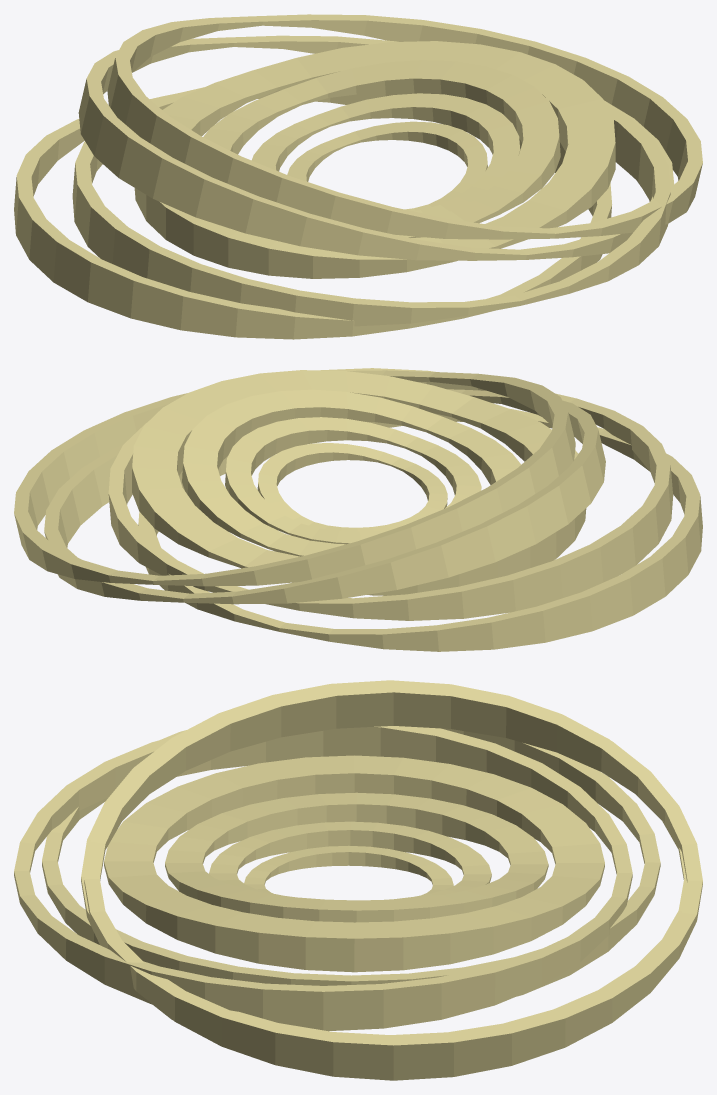
File: choppedOnion.fbx
The picture shows the model from 3 angles, top to bottom: view 1: azimuth 30°, elevation 25°; view 2: azimuth 150°, elevation 25°; view 3: azimuth 270°, elevation 25°; orthographic projection. The views are drawn at different scales.
Parts seen in each view (by area): view 1: Sphere.003, Sphere.002, Sphere.004, Sphere.001, Sphere, Sphere.005, Sphere.006, Sphere.007; view 2: Sphere.003, Sphere.002, Sphere.004, Sphere.001, Sphere, Sphere.005, Sphere.006, Sphere.007; view 3: Sphere.003, Sphere.002, Sphere.001, Sphere.005, Sphere, Sphere.006, Sphere.007, Sphere.004.
Boxes of the visible parts, x1=… form: Sphere.003: x1=107, y1=14, x2=702, y2=239; Sphere.002: x1=134, y1=41, x2=615, y2=278; Sphere.004: x1=78, y1=35, x2=674, y2=260; Sphere.001: x1=72, y1=87, x2=670, y2=326; Sphere: x1=14, y1=90, x2=611, y2=339; Sphere.005: x1=203, y1=60, x2=560, y2=237; Sphere.006: x1=251, y1=93, x2=520, y2=215; Sphere.007: x1=287, y1=121, x2=487, y2=210; Sphere.003: x1=14, y1=370, x2=575, y2=586; Sphere.002: x1=132, y1=370, x2=586, y2=595; Sphere.004: x1=44, y1=389, x2=605, y2=604; Sphere.001: x1=108, y1=368, x2=673, y2=620; Sphere: x1=138, y1=409, x2=702, y2=651; Sphere.005: x1=182, y1=389, x2=521, y2=556; Sphere.006: x1=225, y1=417, x2=481, y2=544; Sphere.007: x1=257, y1=443, x2=447, y2=531; Sphere.003: x1=84, y1=682, x2=702, y2=1080; Sphere.002: x1=104, y1=755, x2=604, y2=972; Sphere.001: x1=14, y1=726, x2=632, y2=1031; Sphere.005: x1=165, y1=792, x2=548, y2=922; Sphere: x1=42, y1=728, x2=660, y2=996; Sphere.006: x1=209, y1=821, x2=491, y2=899; Sphere.007: x1=244, y1=845, x2=453, y2=895; Sphere.004: x1=81, y1=680, x2=686, y2=1037.
Bounding box in the file's own units: 223 × 243 × 57.63.
